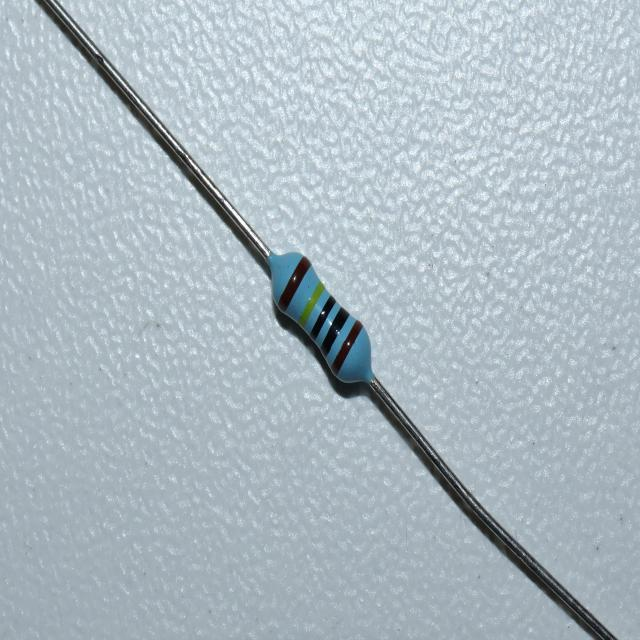resistor: (269, 252, 377, 390)
